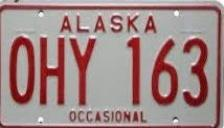0: (8, 35, 37, 104)
1: (126, 34, 146, 107)
3: (181, 35, 211, 109)
6: (150, 35, 181, 106)
H: (37, 35, 68, 108)
Y: (68, 35, 99, 107)
